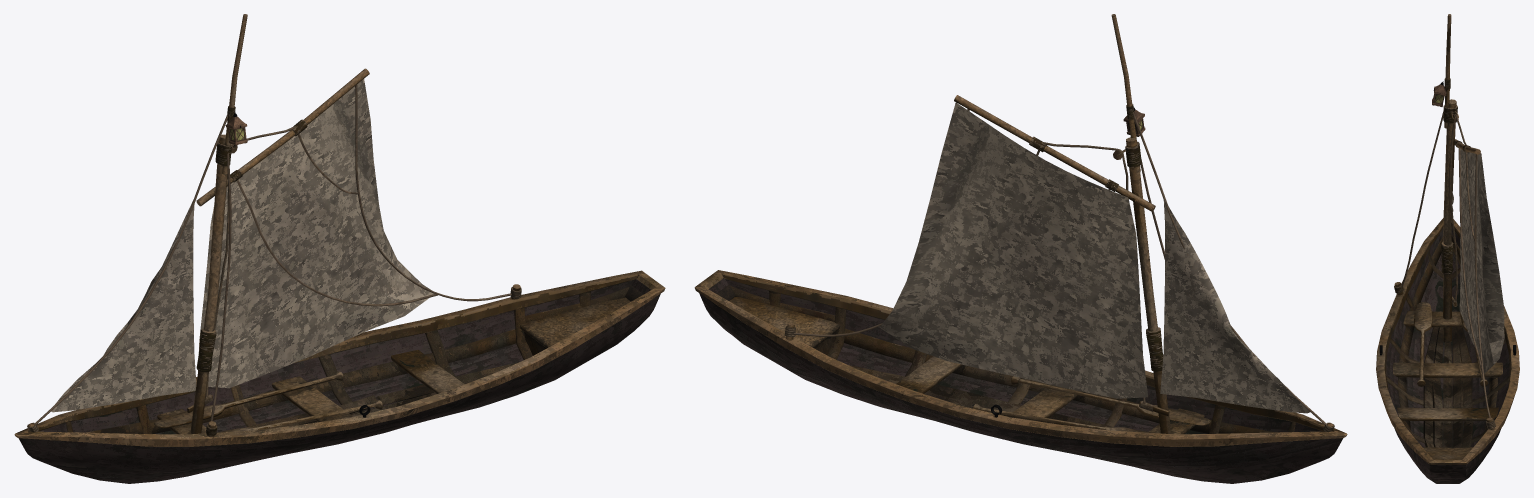
File: Pirate_Boat.fbx
3 renders of one model, left to right at view 1: azimuth 30°, elevation 25°; view 2: azimuth 150°, elevation 25°; view 3: azimuth 270°, elevation 25°, orthographic. The views are drawn at different scales.
Parts seen in each view (by area): view 1: desirefx.me_00, desirefx.me_03, desirefx.me_02; view 2: desirefx.me_00, desirefx.me_03, desirefx.me_02; view 3: desirefx.me_03, desirefx.me_00, desirefx.me_02.
Part boxes in pixels (x1,y1,x2,y2): desirefx.me_00: (27,14,521,437); desirefx.me_03: (14,270,665,483); desirefx.me_02: (66,111,643,433); desirefx.me_00: (784,14,1334,433); desirefx.me_03: (694,270,1347,483); desirefx.me_02: (716,107,1295,433); desirefx.me_03: (1376,218,1519,483); desirefx.me_00: (1379,14,1516,429); desirefx.me_02: (1386,81,1509,459).
Size of the model in its own units: 914 by 609 by 224.
